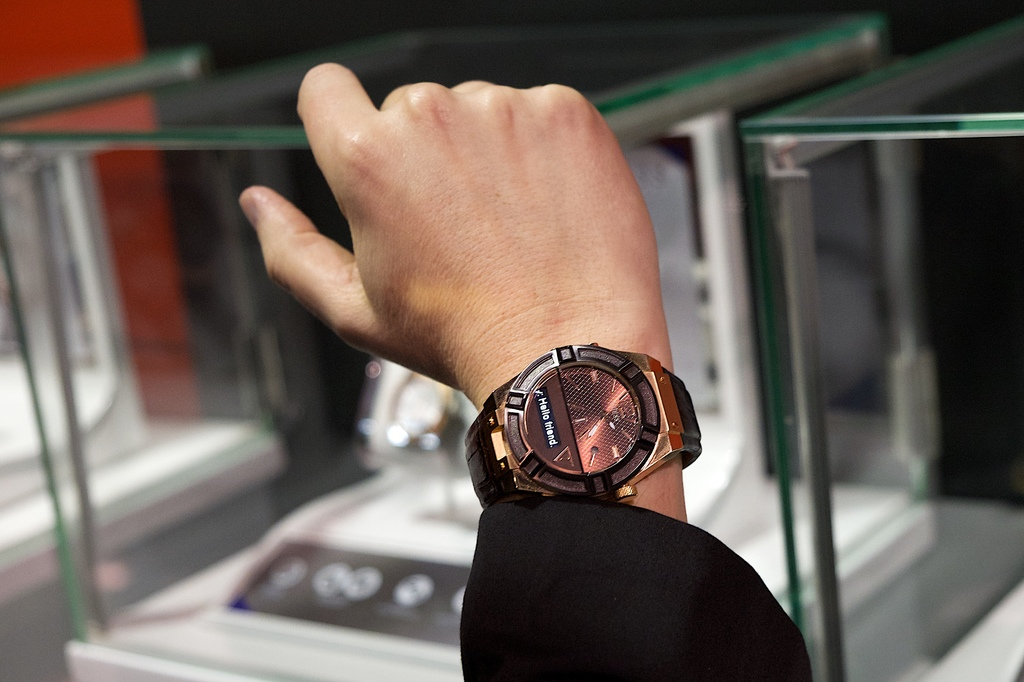watch: (458, 340, 697, 507)
